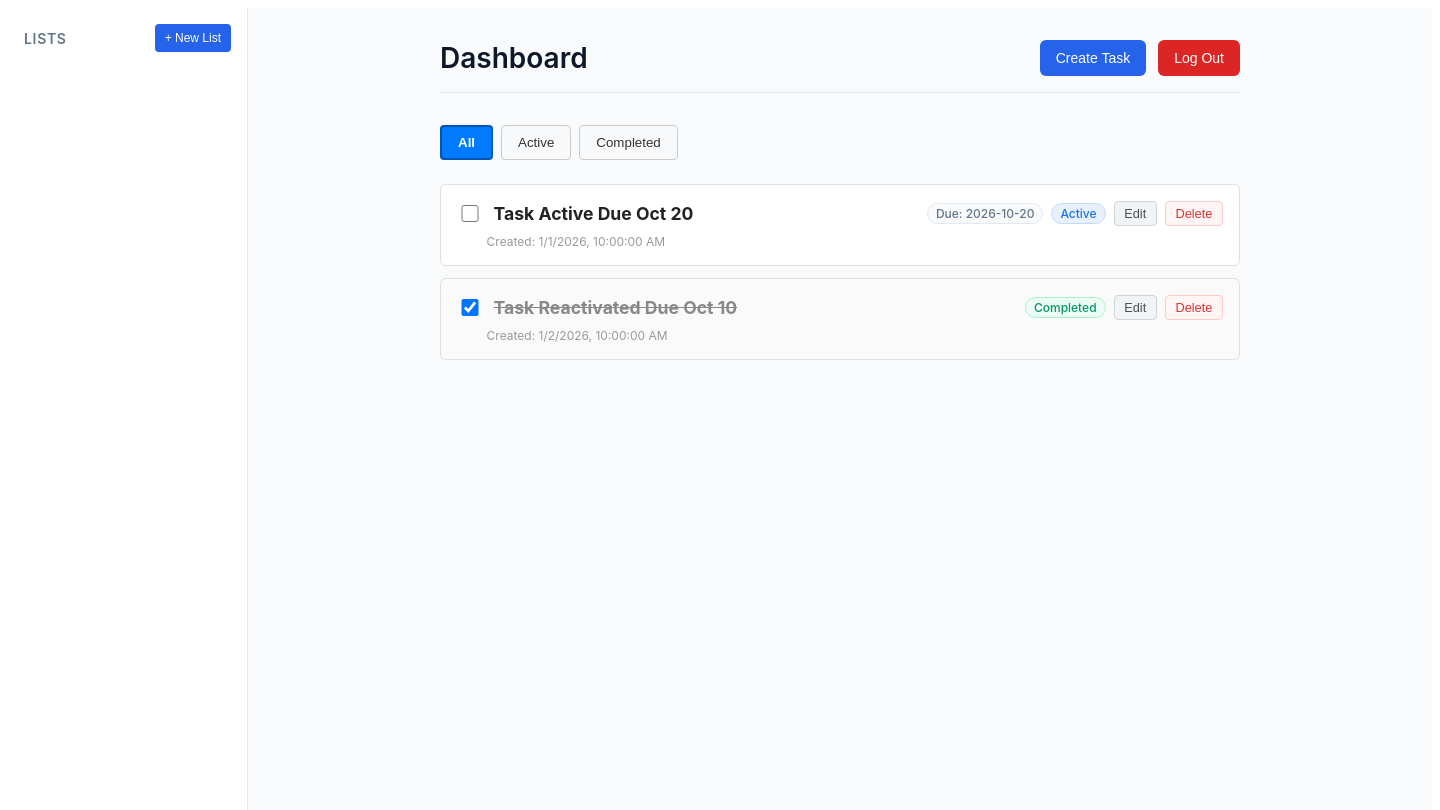
Test: Dashboard Deadline-Aware Ordering Preservation (T4 / AC-1 & AC-2) › maintains ordering when completed task is marked active, moving it to active position
Check: the heading "Task Reactivated Due Oct 10" is shown, box [494,297,737,318]
Click the checkbox named "Toggle task \"Task Reactivated Due Oct 10\"" at (470, 308), box [461,299,479,316]
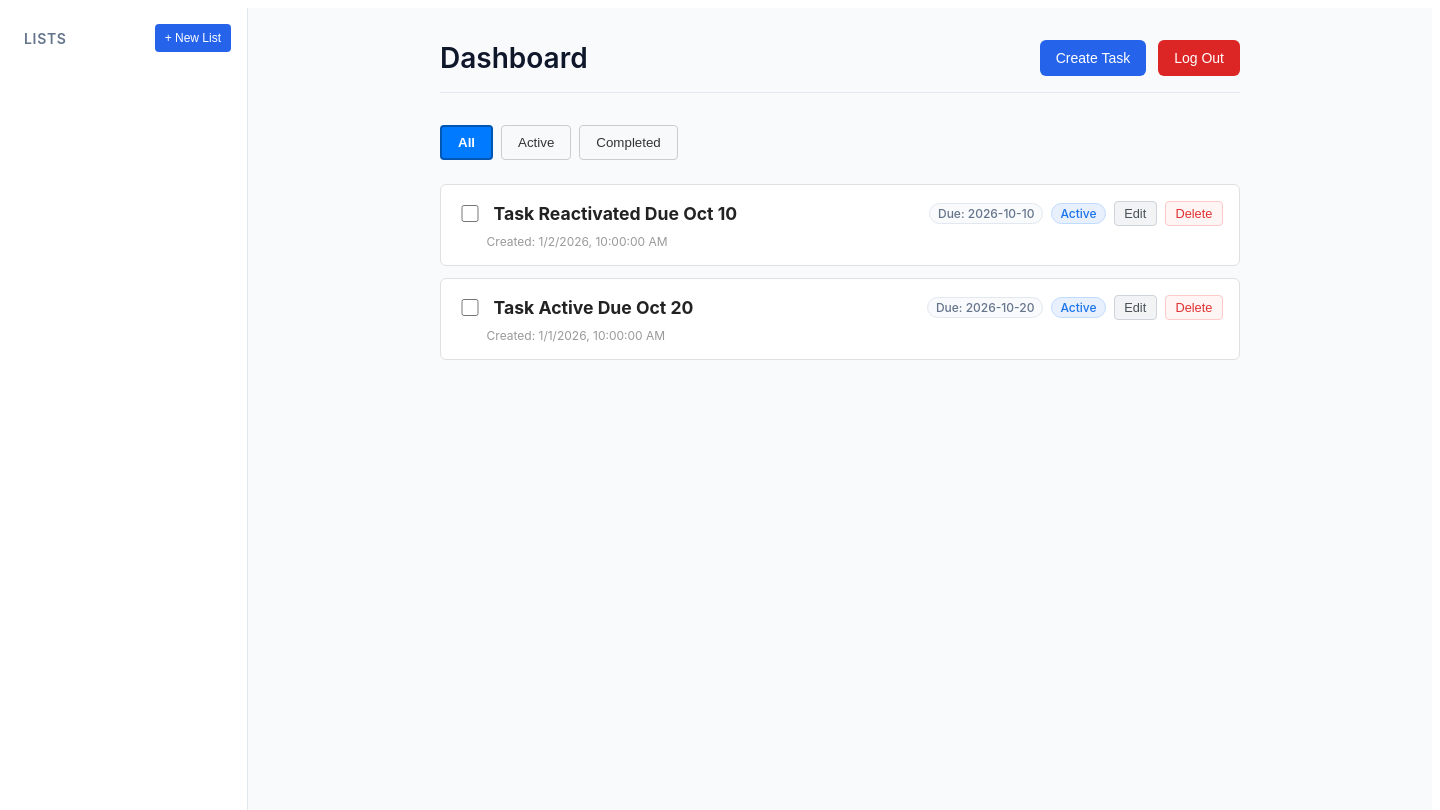
Check: the heading "Task Reactivated Due Oct 10" is shown, box [494,203,737,224]
Check: the headings read "Task Reactivated Due Oct 10", "Task Active Due Oct 20", in this order, box [494,203,737,224]; [494,297,693,318]
